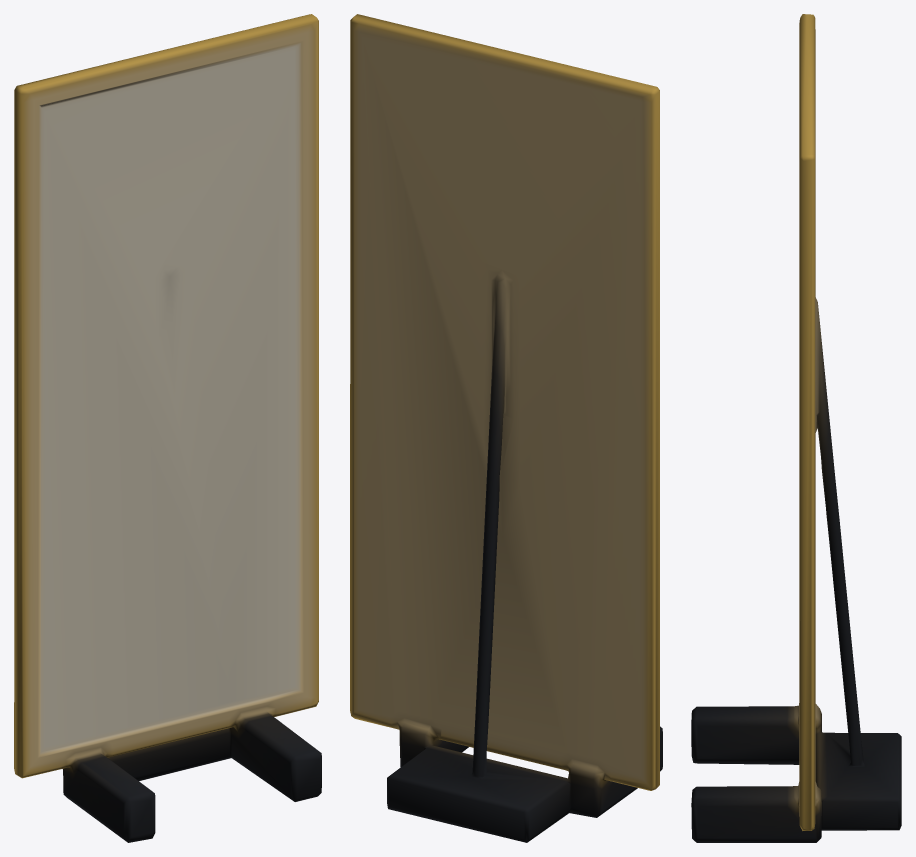
File: lumiere-standee.glb
3 renders of one model, left to right at view 1: azimuth 30°, elevation 25°; view 2: azimuth 150°, elevation 25°; view 3: azimuth 270°, elevation 25°, orthographic. The views are drawn at different scales.
Parts seen in each view (by area): view 1: lumiere-standee_LOD0; view 2: lumiere-standee_LOD0; view 3: lumiere-standee_LOD0.
Part boxes in pixels (left/top/right/bottom): lumiere-standee_LOD0: left=14, top=14, right=321, bottom=842; lumiere-standee_LOD0: left=350, top=14, right=662, bottom=842; lumiere-standee_LOD0: left=691, top=14, right=901, bottom=842.
Size of what is drawn, in the model's own units: 0.9394 by 2.17 by 0.5795.
